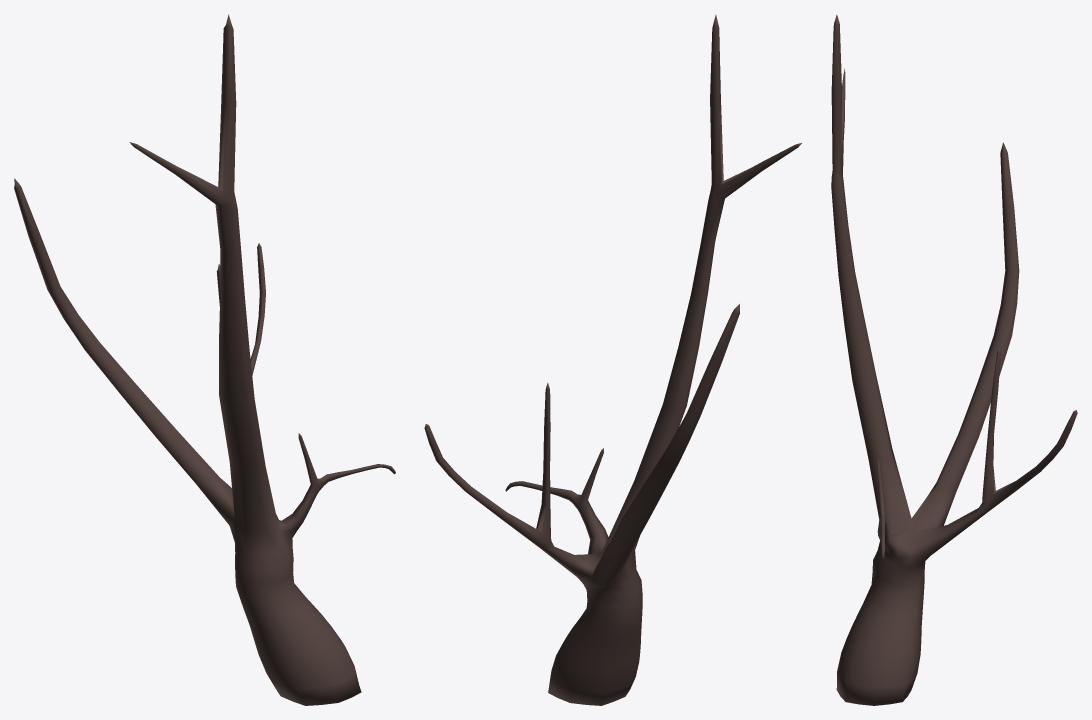
File: Perch.fbx
3 renders of one model, left to right at view 1: azimuth 30°, elevation 25°; view 2: azimuth 150°, elevation 25°; view 3: azimuth 270°, elevation 25°, orthographic. The views are drawn at different scales.
Visible parts, largest first — view 1: Tree Perch Asset; view 2: Tree Perch Asset; view 3: Tree Perch Asset.
Part boxes in pixels (x1,y1,x2,y2): Tree Perch Asset: (14,14,395,705); Tree Perch Asset: (424,14,801,705); Tree Perch Asset: (831,14,1077,705).
Size of the model in its own units: 3.89 by 3.02 by 8.5.
